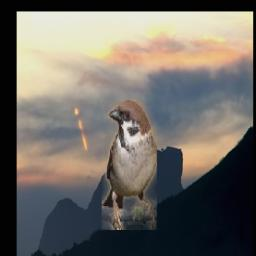Sparrow: (102, 99, 157, 230)
